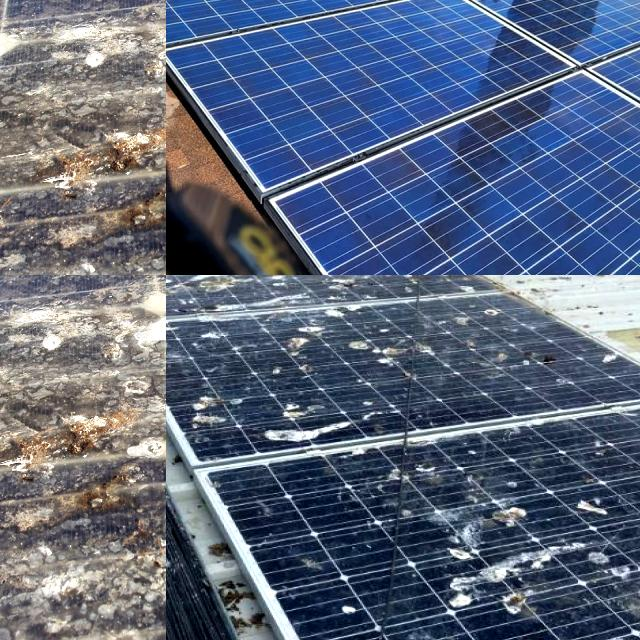bird: (0, 400, 166, 560), (0, 7, 61, 218), (446, 530, 582, 622), (42, 200, 166, 275), (14, 284, 166, 344), (31, 103, 166, 157), (87, 0, 166, 78), (554, 486, 626, 512), (488, 494, 524, 534), (589, 622, 640, 640)
crack: (166, 0, 589, 222), (517, 0, 640, 226), (166, 0, 441, 82), (410, 0, 640, 79), (354, 0, 619, 45)
